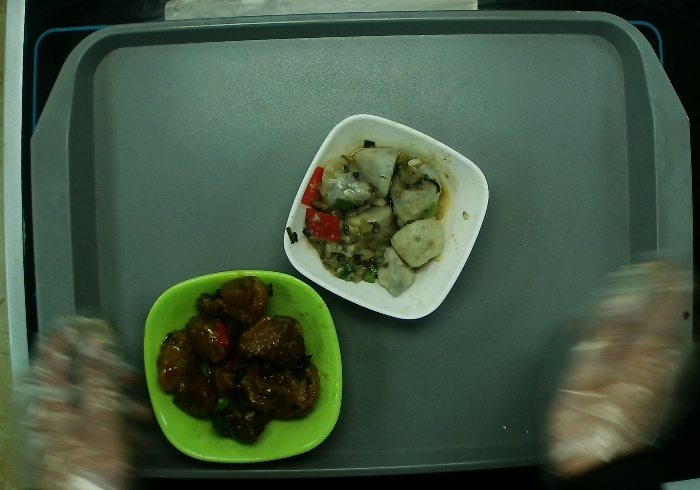SHKJ-Bai_Se_Xiao_Fang_Die: (282, 112, 491, 321)
SHKJ-Lv_Se_Cai_Die: (144, 270, 346, 465)
